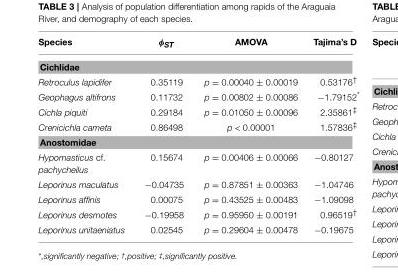table: (37, 37, 358, 234)
table column: (193, 37, 304, 234), (37, 37, 133, 234), (133, 37, 193, 234), (304, 37, 358, 234)
table column header: (37, 37, 358, 55)
table projected row header: (37, 55, 358, 73), (37, 134, 358, 149)
table row: (37, 149, 358, 176), (37, 37, 358, 55), (37, 55, 358, 73), (37, 205, 358, 222), (37, 118, 358, 134), (37, 73, 358, 88), (37, 88, 358, 103), (37, 103, 358, 118), (37, 134, 358, 149), (37, 176, 358, 191), (37, 191, 358, 205), (37, 222, 358, 234)
